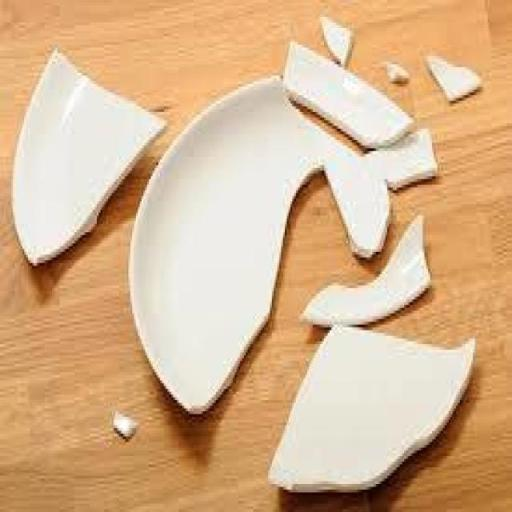glass: (124, 66, 342, 425), (274, 214, 476, 498), (11, 36, 172, 282), (288, 205, 446, 353), (292, 19, 430, 153), (325, 130, 438, 252), (422, 29, 488, 121), (320, 16, 353, 67), (112, 410, 138, 439), (383, 62, 410, 84)
